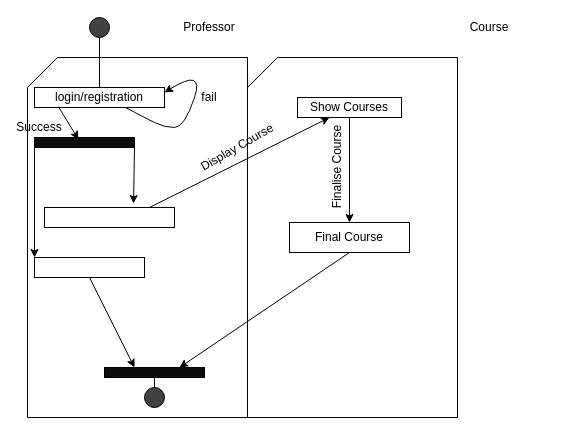
Image size: 567x435. Some labels were removed from this diagram. The shapes that lost their labels are listed below. From the top down, each one's box as (x1, y1, x2, y2) in pixels, then its label:
(44, 206, 174, 228): View Course Details
(34, 256, 144, 278): Edit Grades
